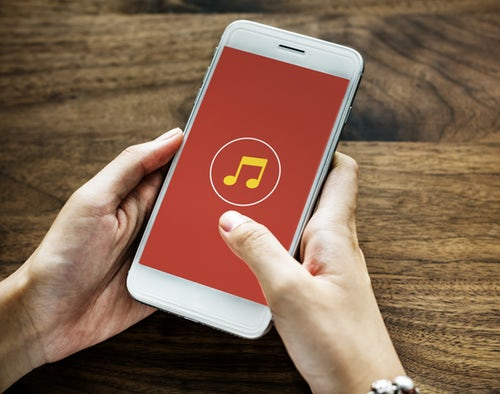phone: (124, 19, 365, 342)
